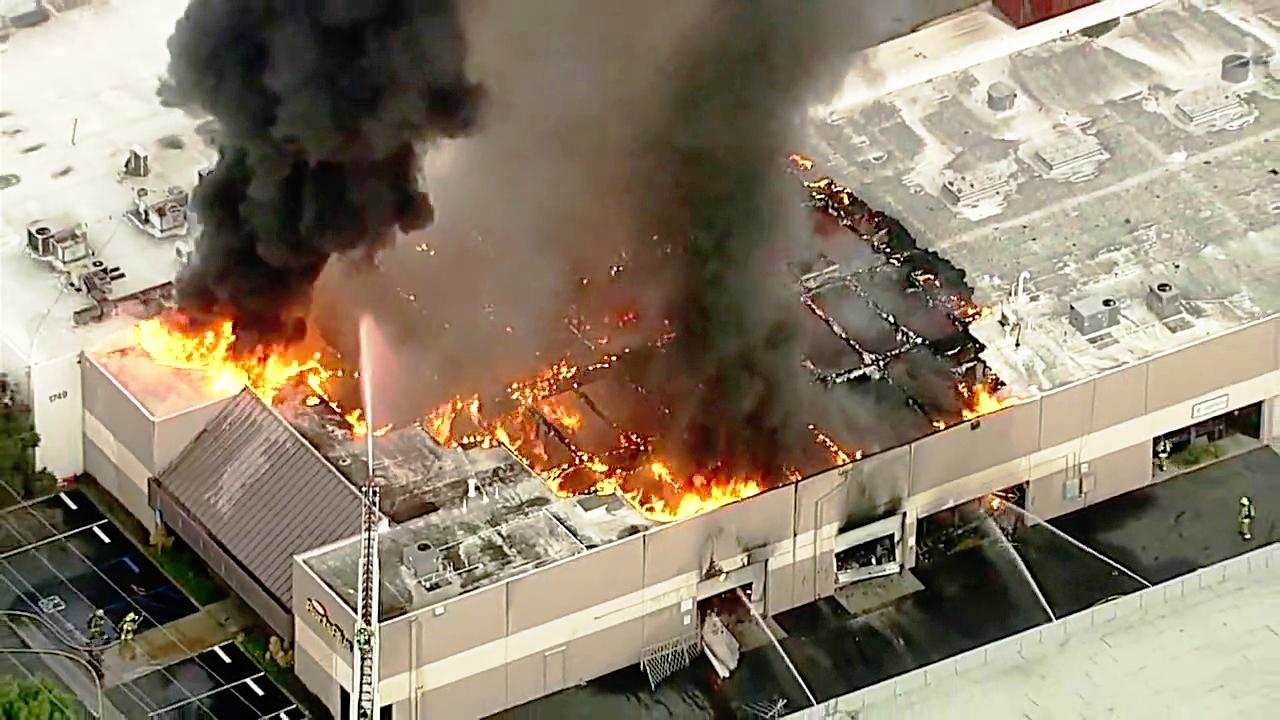fire: (144, 317, 338, 400), (630, 487, 765, 542)
smoke: (175, 2, 447, 287), (657, 0, 794, 455)
